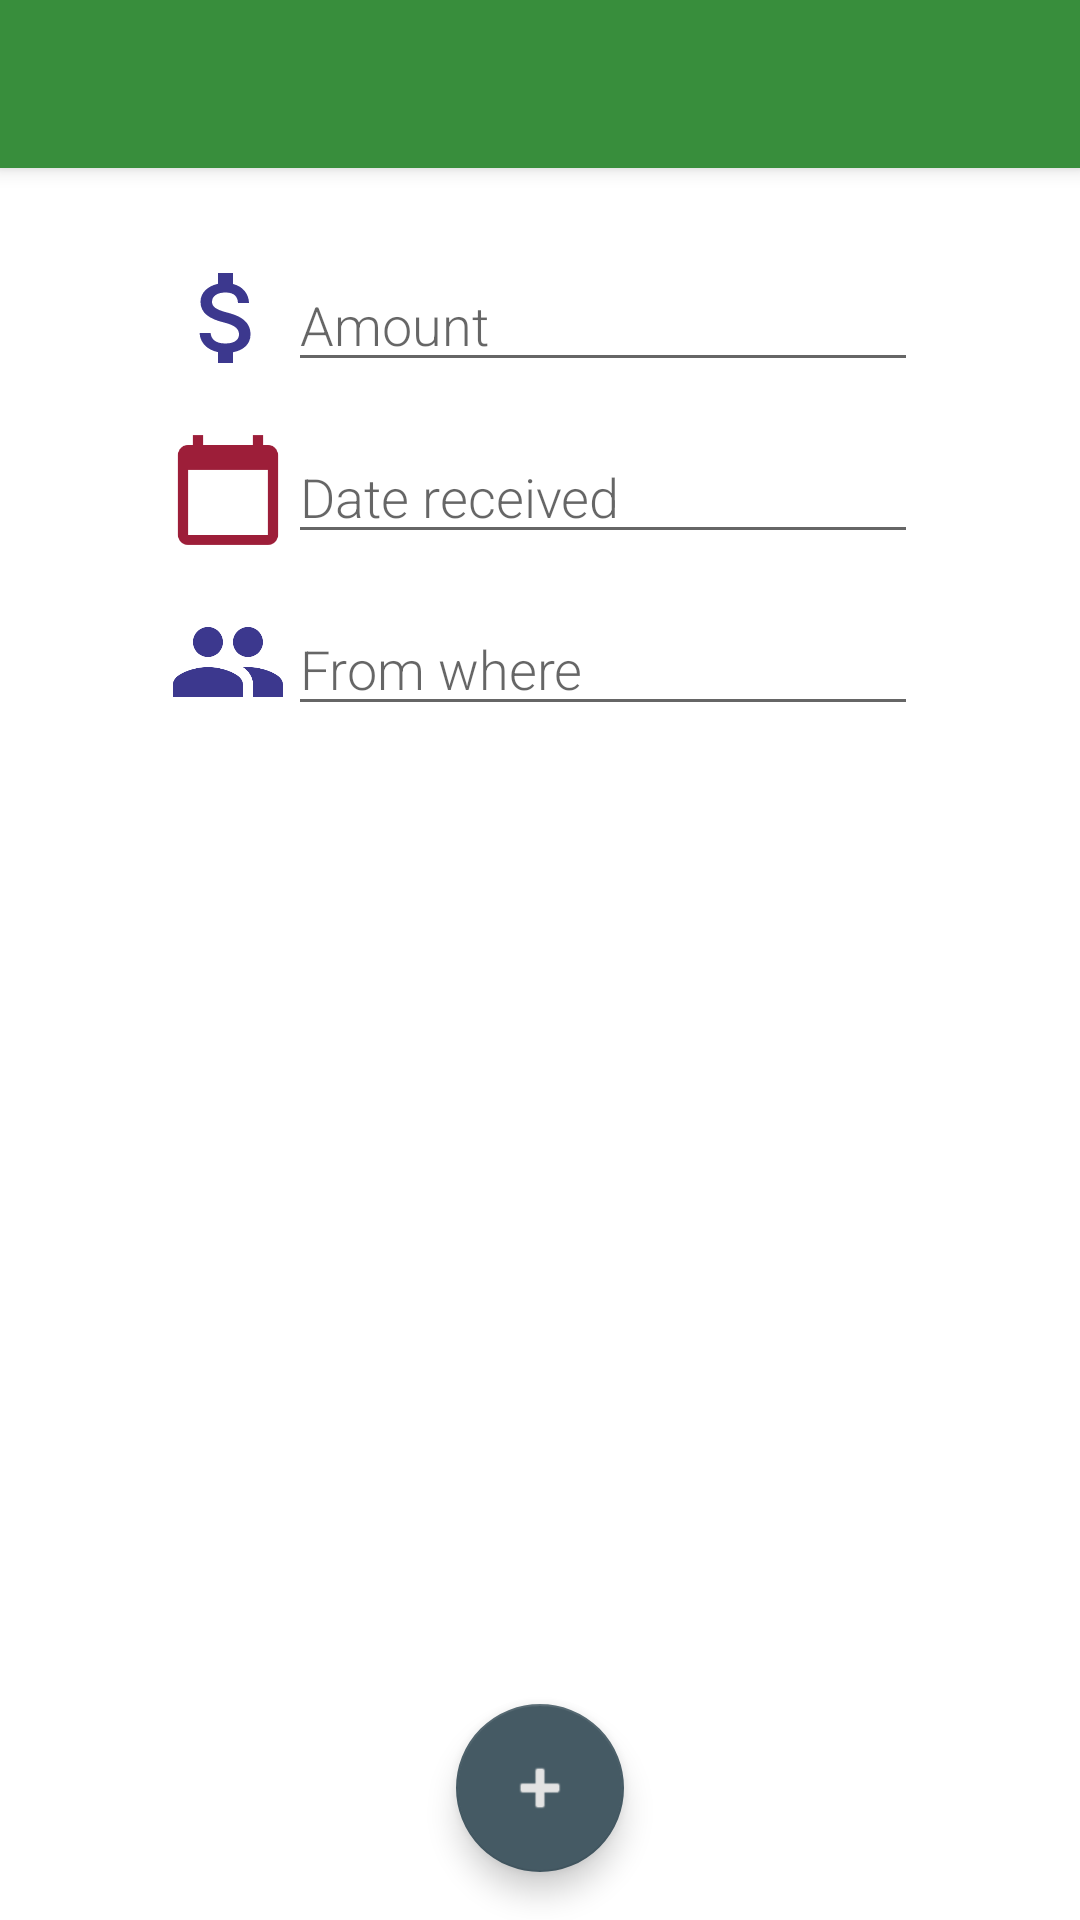

Icons on this 1080 × 1920 Android screen, each with the point to tap as (x,y):
add: (540,1788)
attach money: (225,318)
calendar today: (227,490)
people: (228,662)
